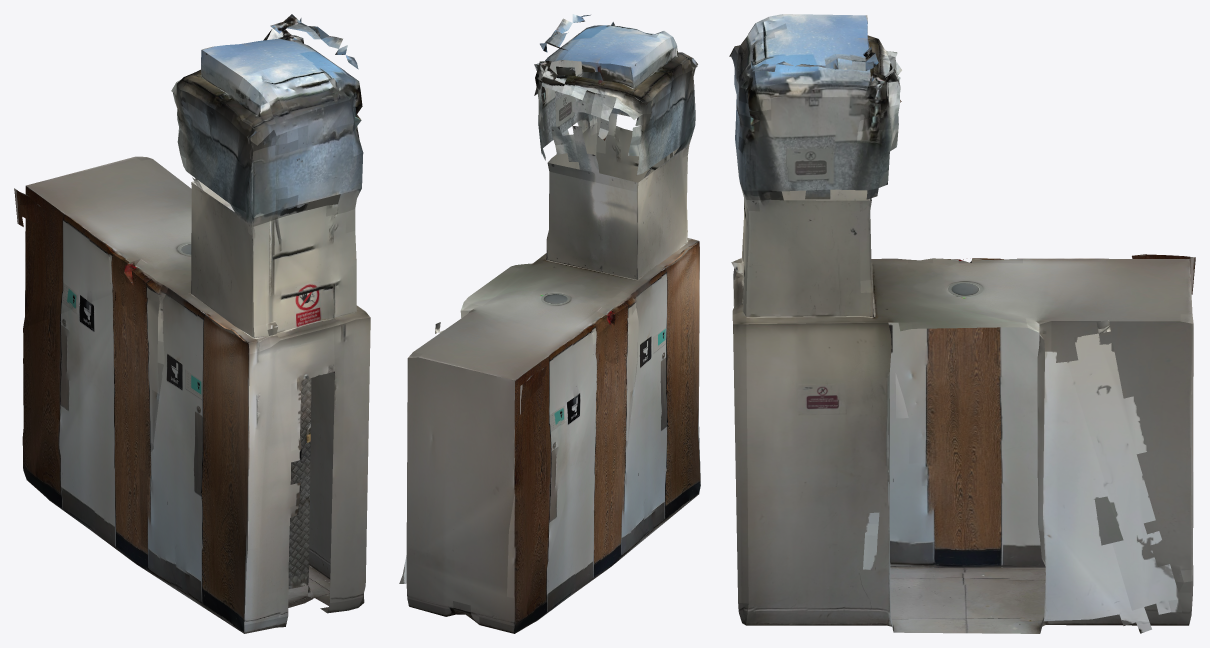
The model's file is 4_next_to_404-IM.fbx.
3 views of the same model, side by side, from view 1: azimuth 30°, elevation 25°; view 2: azimuth 150°, elevation 25°; view 3: azimuth 270°, elevation 25° (orthographic). The views are drawn at different scales.
Visible parts, largest first — view 1: 4_next_to_404-IM; view 2: 4_next_to_404-IM; view 3: 4_next_to_404-IM.
Boxes of the visible parts, left/top/right/bottom form: 4_next_to_404-IM: left=14, top=14, right=370, bottom=633; 4_next_to_404-IM: left=399, top=14, right=700, bottom=633; 4_next_to_404-IM: left=729, top=14, right=1195, bottom=633.
Bounding box in the file's own units: 116 × 411 × 304.
1 material, 1 textured.
